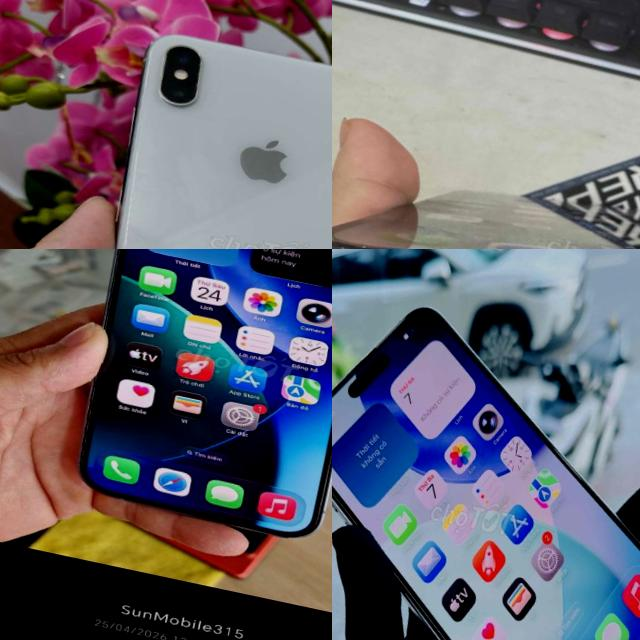gen_14: (61, 249, 332, 551), (332, 149, 640, 249)
gen_15: (332, 279, 640, 640)
gen_x_xs: (55, 16, 332, 249)
